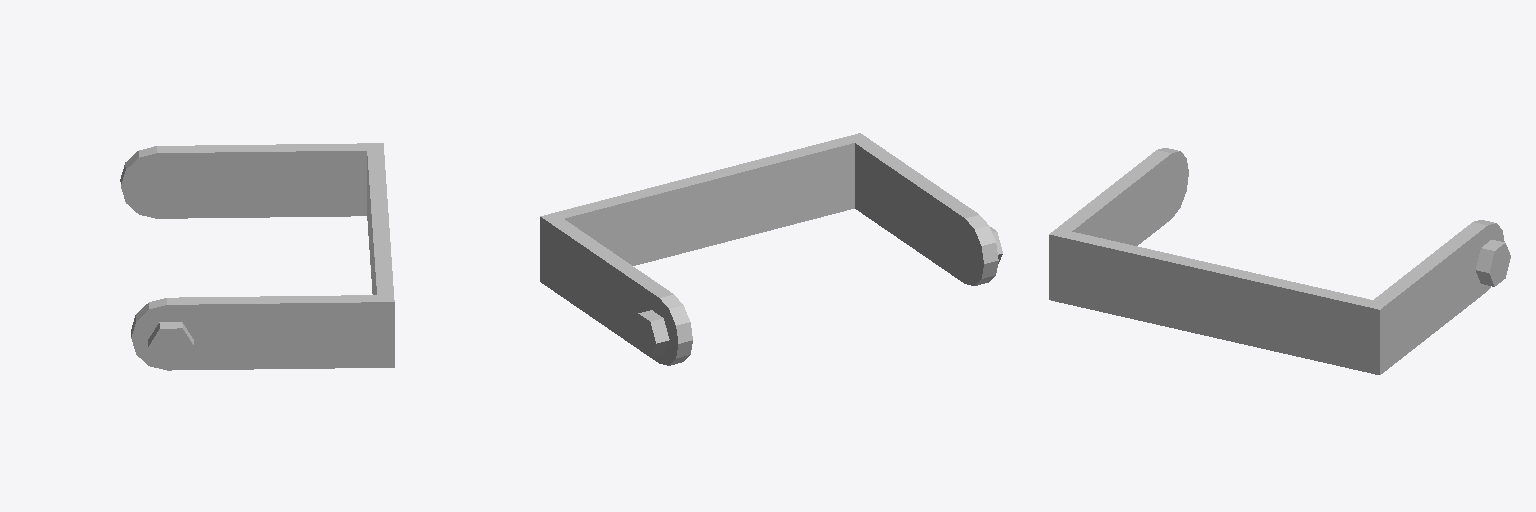
3 renders of one model, left to right at view 1: azimuth 30°, elevation 25°; view 2: azimuth 150°, elevation 25°; view 3: azimuth 270°, elevation 25°, orthographic.
Parts seen in each view (by area): view 1: Bistro_Research_Exterior_Paris_Building_01_paris_buildi_c107f3c; view 2: Bistro_Research_Exterior_Paris_Building_01_paris_buildi_c107f3c; view 3: Bistro_Research_Exterior_Paris_Building_01_paris_buildi_c107f3c.
Part boxes in pixels (x1,y1,x2,y2): Bistro_Research_Exterior_Paris_Building_01_paris_buildi_c107f3c: (120, 143, 394, 370); Bistro_Research_Exterior_Paris_Building_01_paris_buildi_c107f3c: (540, 133, 1002, 365); Bistro_Research_Exterior_Paris_Building_01_paris_buildi_c107f3c: (1049, 148, 1510, 374).
Size of the model in its own units: 0.3678 by 0.0649 by 0.4141.